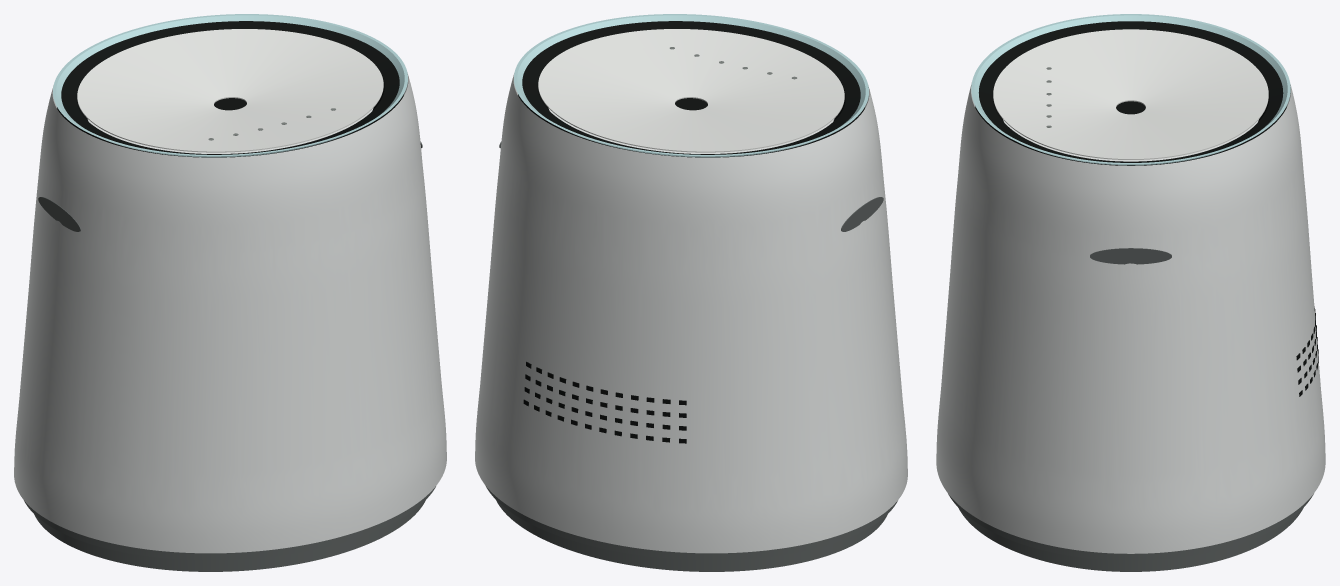
3 renders of one model, left to right at view 1: azimuth 30°, elevation 25°; view 2: azimuth 150°, elevation 25°; view 3: azimuth 270°, elevation 25°, orthographic. The views are drawn at different scales.
Visible parts, largest first — view 1: UpperBodyShell, ControlDish, door_base_plate, AirOutletDarkWell, AccentTopRing; view 2: UpperBodyShell, ControlDish, AirOutletDarkWell, door_base_plate, AccentTopRing; view 3: UpperBodyShell, ControlDish, AirOutletDarkWell, door_base_plate, AccentTopRing.
Part boxes in pixels (x1,y1,x2,y2): UpperBodyShell: [14, 74, 446, 553]; ControlDish: [77, 29, 383, 152]; door_base_plate: [24, 141, 435, 571]; AirOutletDarkWell: [57, 21, 403, 157]; AccentTopRing: [53, 14, 407, 157]; UpperBodyShell: [475, 73, 907, 553]; ControlDish: [538, 29, 844, 152]; AirOutletDarkWell: [518, 21, 864, 443]; door_base_plate: [486, 141, 897, 571]; AccentTopRing: [514, 14, 868, 157]; UpperBodyShell: [936, 82, 1325, 553]; ControlDish: [993, 29, 1268, 159]; AirOutletDarkWell: [975, 21, 1318, 396]; door_base_plate: [948, 248, 1313, 571]; AccentTopRing: [971, 14, 1290, 165].
Bounding box in the file's own units: 0.39 × 0.395 × 0.35.
